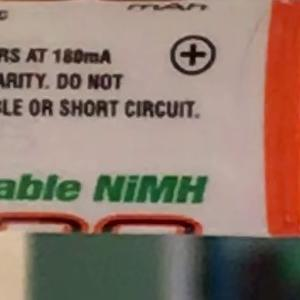keyword: (83, 164, 218, 214)
